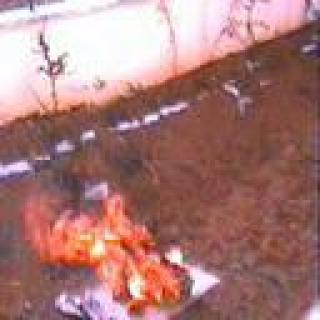fire: (17, 178, 204, 317)
